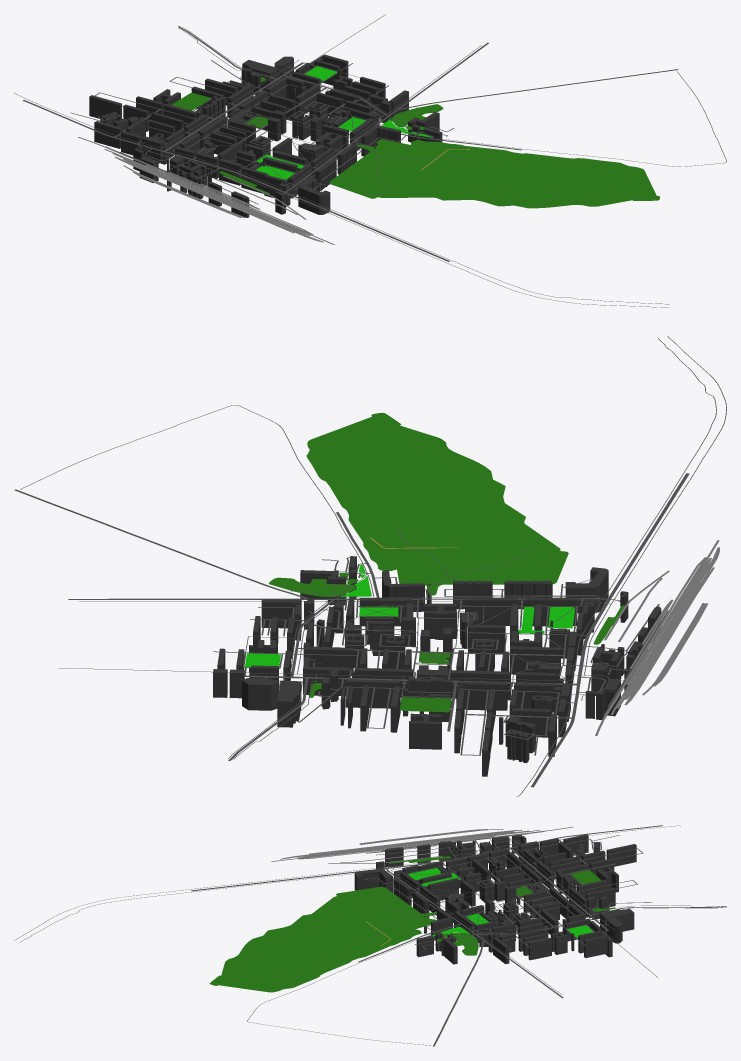
File: City.fbx
3 renders of one model, top to bottom at view 1: azimuth 30°, elevation 25°; view 2: azimuth 150°, elevation 25°; view 3: azimuth 270°, elevation 25°, orthographic. The views are drawn at different scales.
Visible parts, largest first — view 1: map_5.osm_buildings, map_4.osm_forest, map_4.osm_paths_footway, map_4.osm_railways, map_4.osm_roads_service, map_4.osm_roads_tertiary, map_4.osm_vegetation, map_4.osm_roads_primary; view 2: map_5.osm_buildings, map_4.osm_forest, map_4.osm_roads_service, map_4.osm_paths_footway, map_4.osm_railways, map_4.osm_roads_tertiary, map_4.osm_vegetation, map_4.osm_roads_primary, map_4.osm_roads_residential; view 3: map_5.osm_buildings, map_4.osm_forest, map_4.osm_paths_footway, map_4.osm_railways, map_4.osm_roads_service, map_4.osm_roads_tertiary, map_4.osm_vegetation, map_4.osm_roads_primary.
Boxes of the visible parts, x1,y1,x2,y2 form: map_5.osm_buildings: (89, 54, 442, 217); map_4.osm_forest: (171, 77, 659, 208); map_4.osm_paths_footway: (14, 14, 726, 307); map_4.osm_railways: (78, 137, 334, 244); map_4.osm_roads_service: (71, 60, 454, 204); map_4.osm_roads_tertiary: (178, 26, 678, 191); map_4.osm_vegetation: (255, 66, 431, 179); map_4.osm_roads_primary: (164, 62, 450, 261); map_5.osm_buildings: (213, 556, 661, 776); map_4.osm_forest: (269, 412, 624, 712); map_4.osm_roads_service: (213, 557, 659, 755); map_4.osm_paths_footway: (20, 336, 726, 796); map_4.osm_railways: (595, 540, 719, 735); map_4.osm_roads_tertiary: (14, 489, 608, 760); map_4.osm_vegetation: (245, 564, 575, 667); map_4.osm_roads_primary: (244, 473, 689, 685); map_4.osm_roads_residential: (297, 622, 573, 731); map_5.osm_buildings: (354, 834, 636, 964); map_4.osm_forest: (209, 856, 615, 992); map_4.osm_paths_footway: (14, 825, 722, 1045); map_4.osm_railways: (271, 826, 573, 863); map_4.osm_roads_service: (364, 835, 652, 950); map_4.osm_roads_tertiary: (358, 868, 726, 1046); map_4.osm_vegetation: (408, 868, 593, 937); map_4.osm_roads_primary: (191, 847, 608, 930).
Size of the model in its own units: 197412 by 10903 by 268345.
